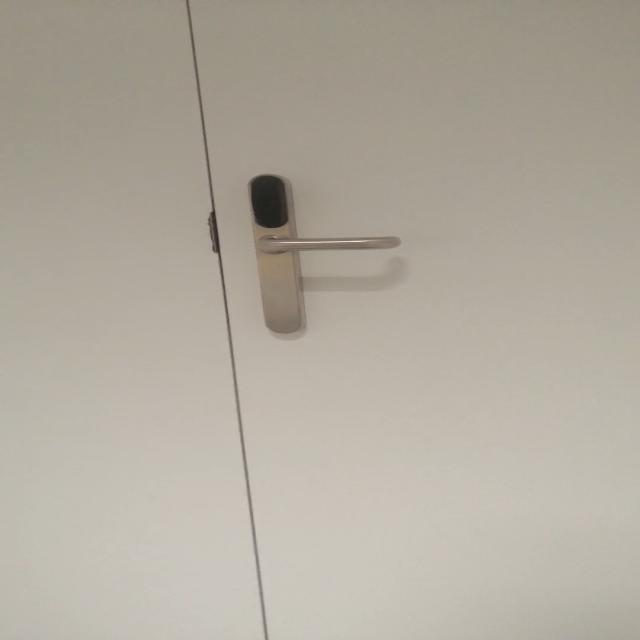door_handle: (241, 230, 408, 264)
